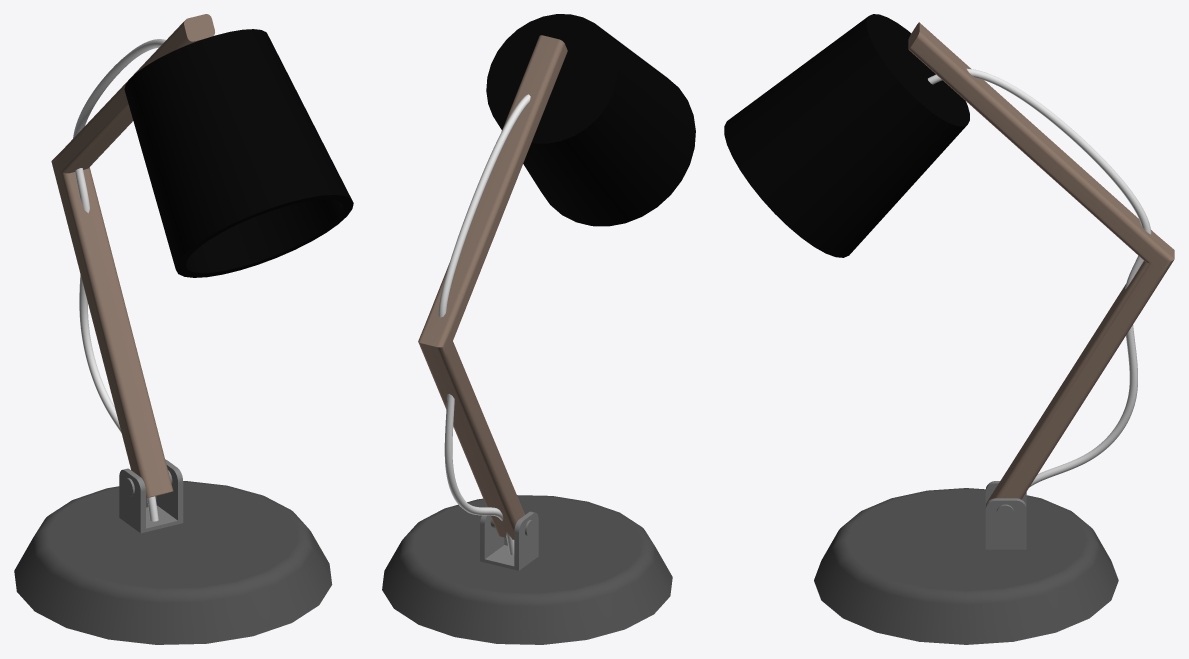
The model's file is Desk_Lamp.fbx.
The picture shows the model from 3 angles, left to right: view 1: azimuth 30°, elevation 25°; view 2: azimuth 150°, elevation 25°; view 3: azimuth 270°, elevation 25°; orthographic projection. The views are drawn at different scales.
Parts seen in each view (by area): view 1: pCylinder30; view 2: pCylinder30; view 3: pCylinder30.
Boxes of the visible parts, x1,y1,x2,y2 form: pCylinder30: [14, 14, 353, 644]; pCylinder30: [382, 14, 695, 644]; pCylinder30: [724, 14, 1174, 644].
Bounding box in the file's own units: 1.44 × 2.9 × 2.13.
